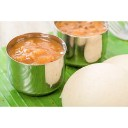idly: (62, 61, 128, 106), (105, 55, 128, 73)
